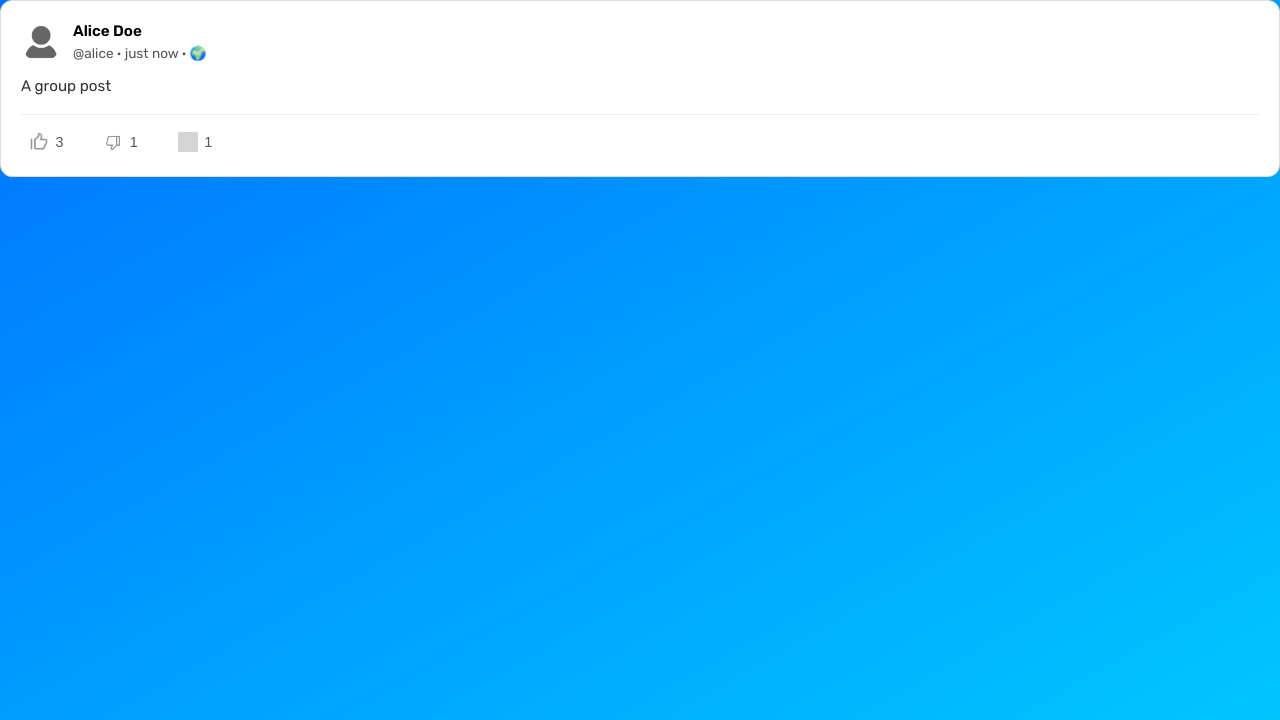
GroupContent PostsTab comments › submits a group comment with optional image via createGroupPostComment
Click the button named "comments": (195, 142) x1=170 y1=127 x2=220 y2=156
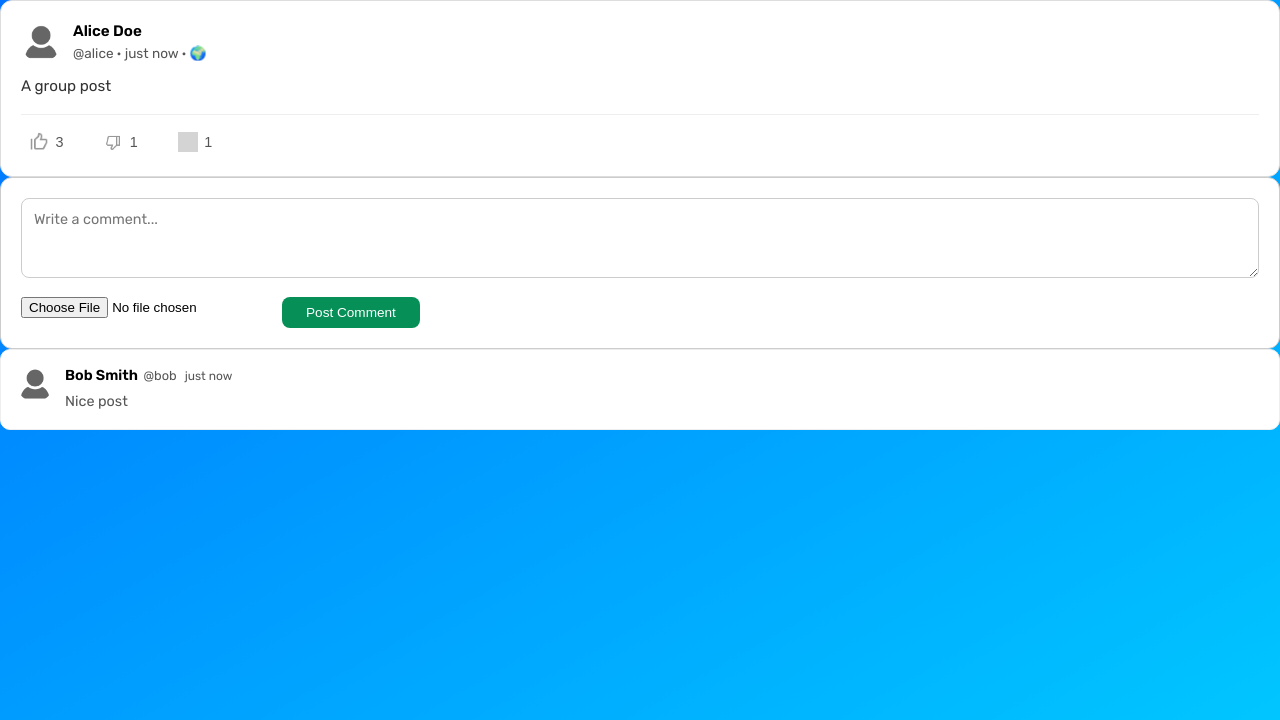
In the text box with placeholder "Write a comment...": (640, 238) x1=21 y1=198 x2=1259 y2=278, type "Thanks!"
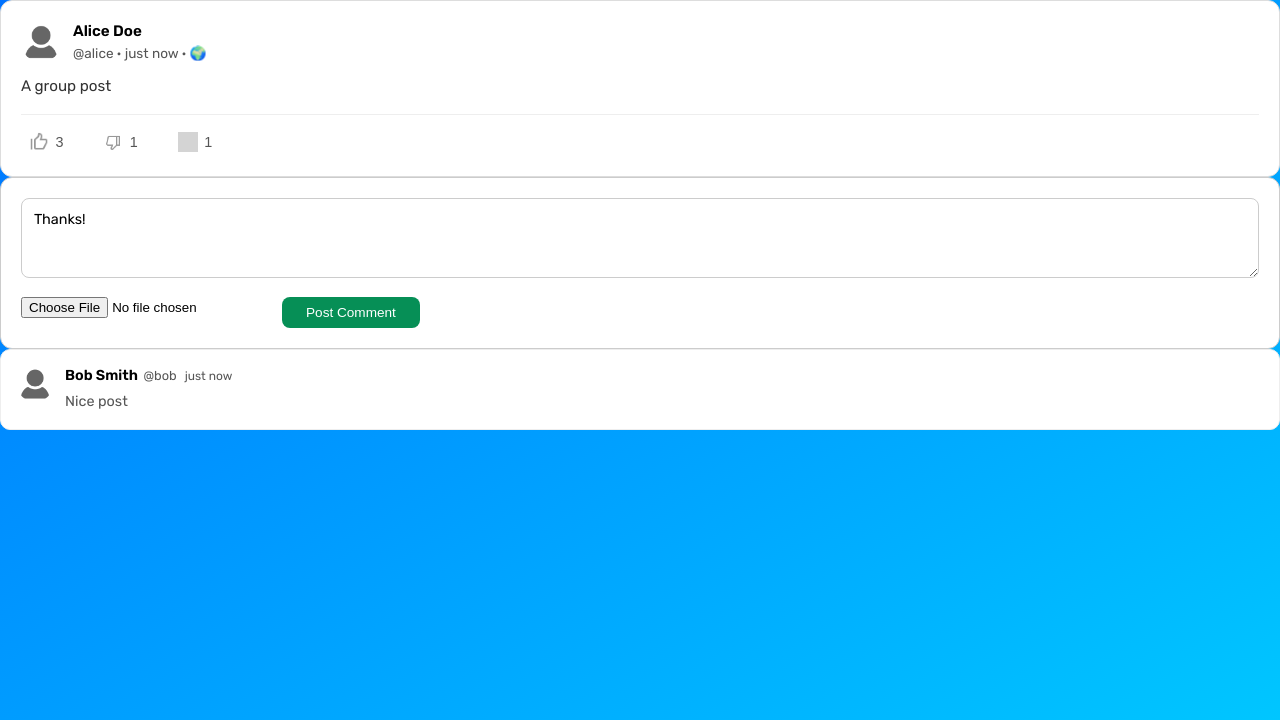
Click the button "Post Comment": (351, 312) x1=282 y1=297 x2=420 y2=328
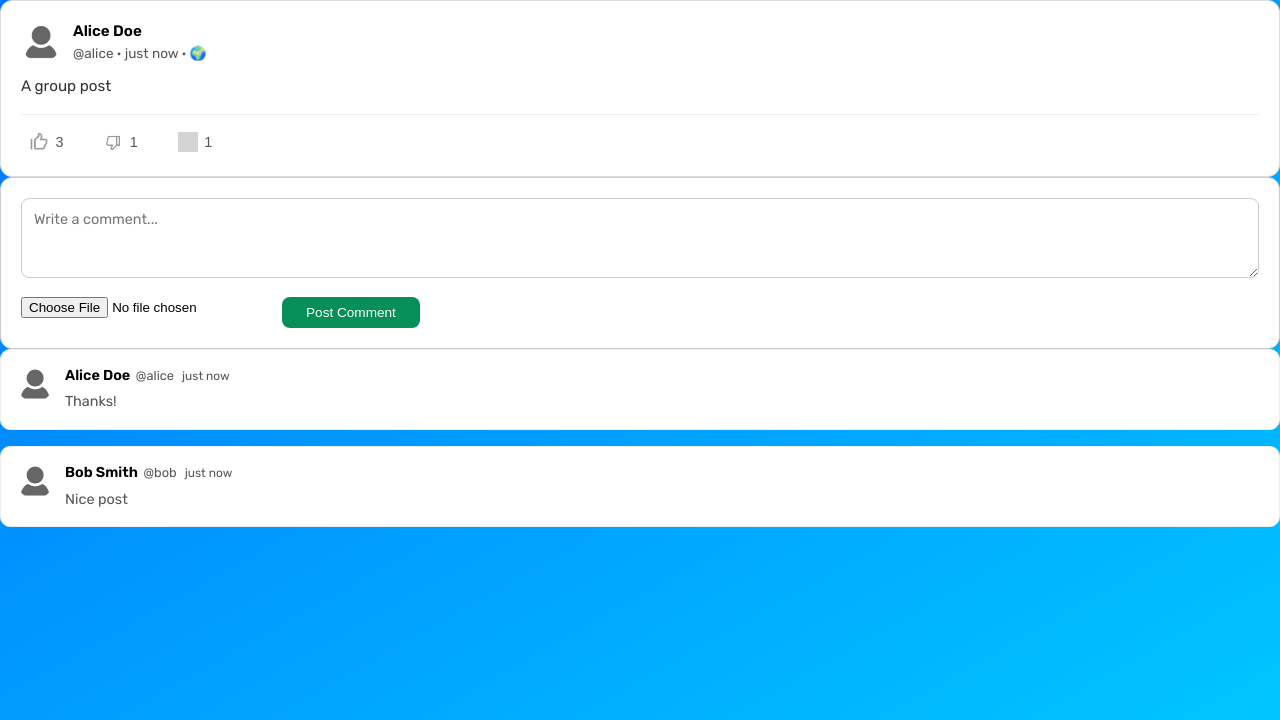
Now the text "Thanks!" is shown, box x1=65 y1=393 x2=117 y2=410
